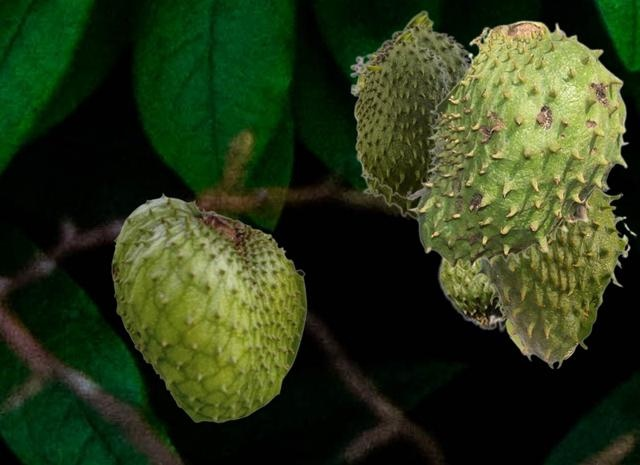guyabano: (406, 20, 628, 269), (111, 192, 306, 422), (472, 190, 636, 368), (350, 9, 469, 220), (350, 28, 452, 198), (435, 257, 505, 332)
